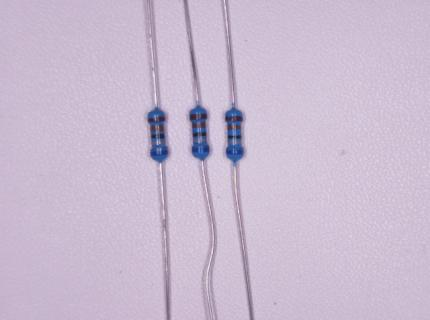Black band: (152, 134, 165, 139), (228, 135, 242, 139), (193, 133, 206, 137)
Blue band: (150, 150, 167, 156), (227, 150, 243, 155), (192, 148, 209, 152)
Brown band: (148, 117, 165, 123), (190, 114, 207, 120), (225, 116, 242, 121)
Grey band: (151, 140, 165, 145), (193, 138, 206, 142), (228, 140, 241, 144)
Orange band: (151, 127, 164, 132), (192, 123, 205, 128), (227, 125, 241, 129)
